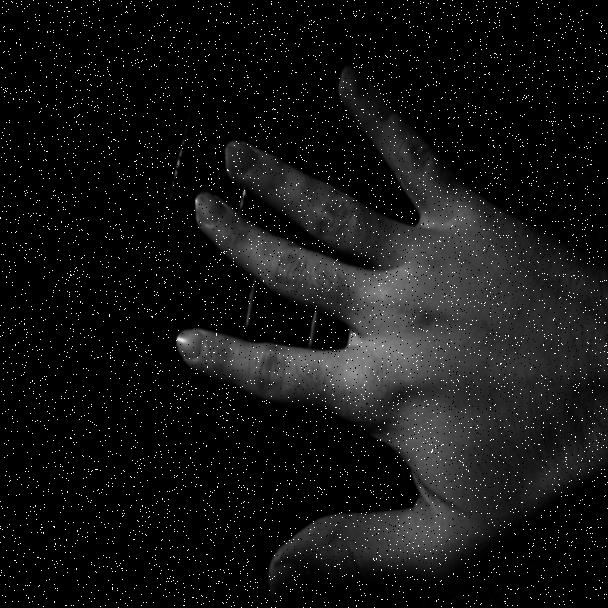five: (65, 7, 608, 608)
